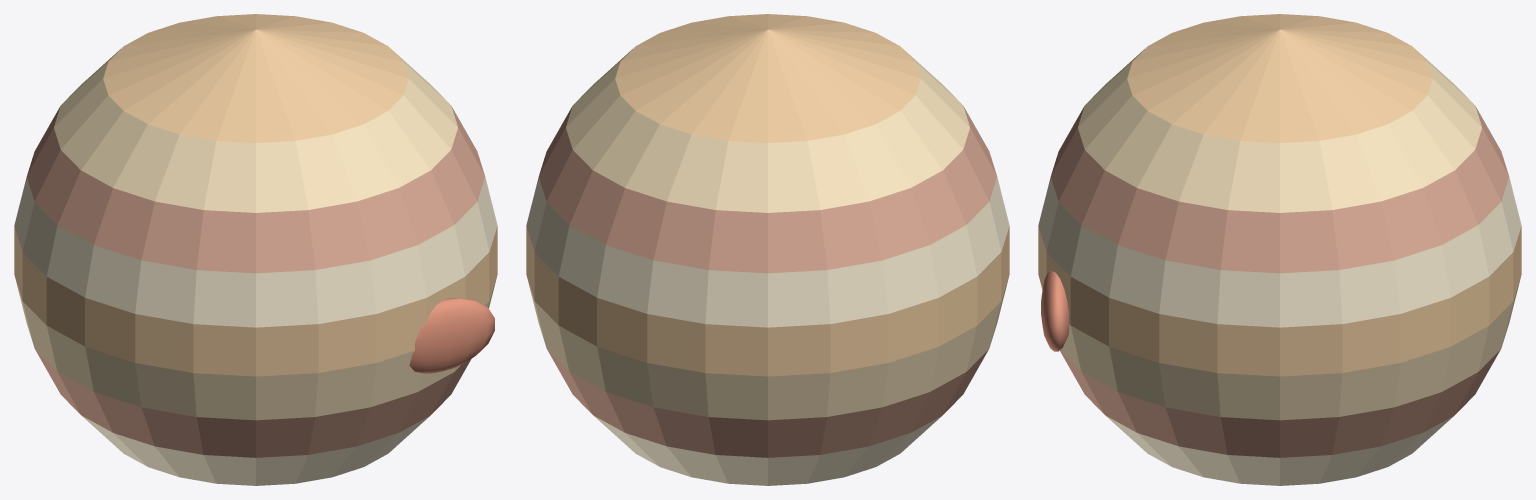
The model's file is space__giant.fbx.
The picture shows the model from 3 angles, left to right: view 1: azimuth 30°, elevation 25°; view 2: azimuth 150°, elevation 25°; view 3: azimuth 270°, elevation 25°; orthographic projection.
Visible parts, largest first — view 1: space__giant; view 2: space__giant; view 3: space__giant.
Boxes of the visible parts, box(x1,y1,x2,y2) form: space__giant: box(14, 14, 497, 485); space__giant: box(526, 14, 1009, 485); space__giant: box(1038, 14, 1521, 485).
Bounding box in the file's own units: 19.88 × 20 × 19.88.
